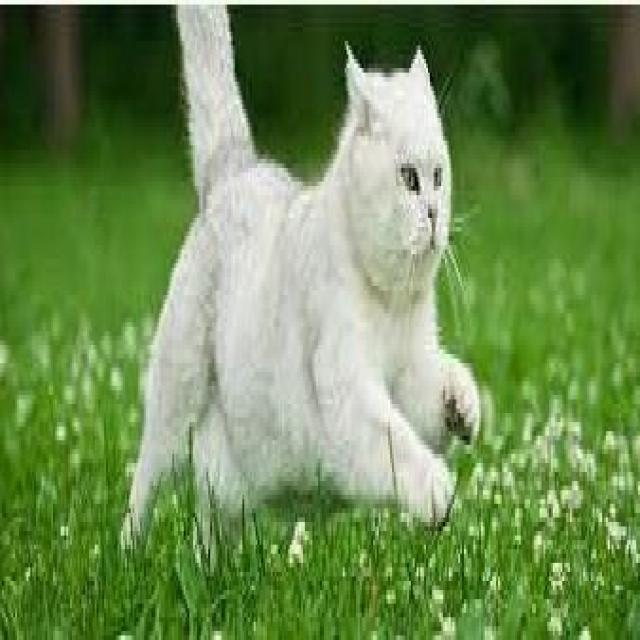Gato: (117, 0, 490, 567)
